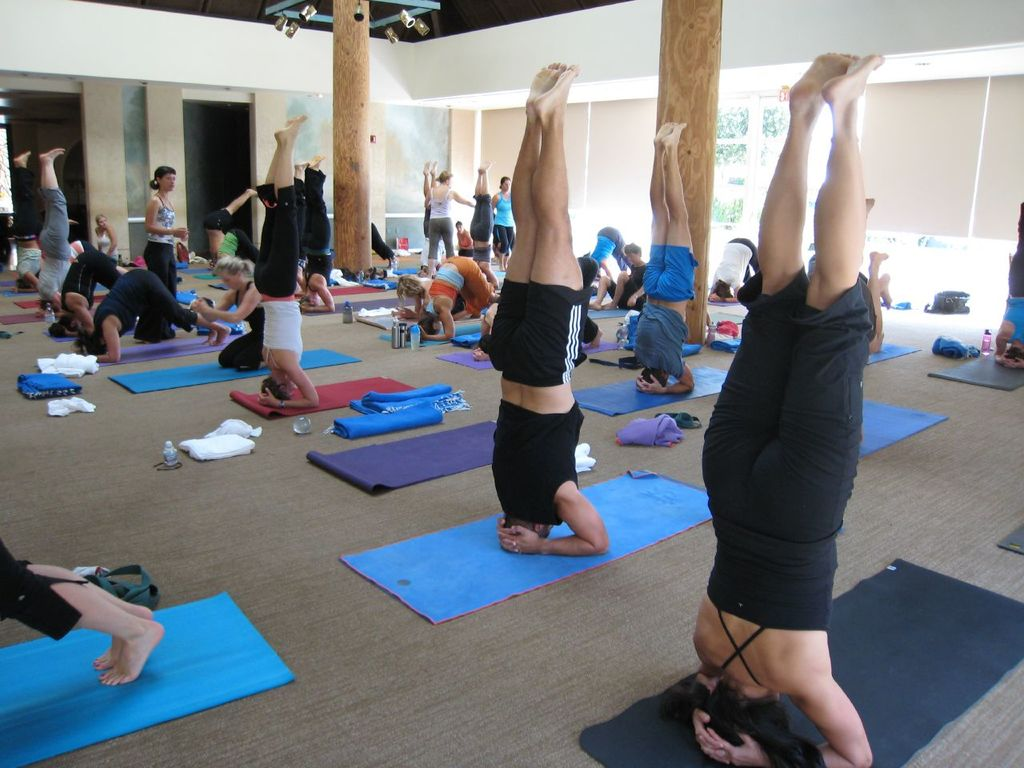Person: (10, 114, 888, 413), (659, 53, 881, 768), (486, 63, 609, 553), (0, 534, 163, 684), (993, 201, 1024, 368)
